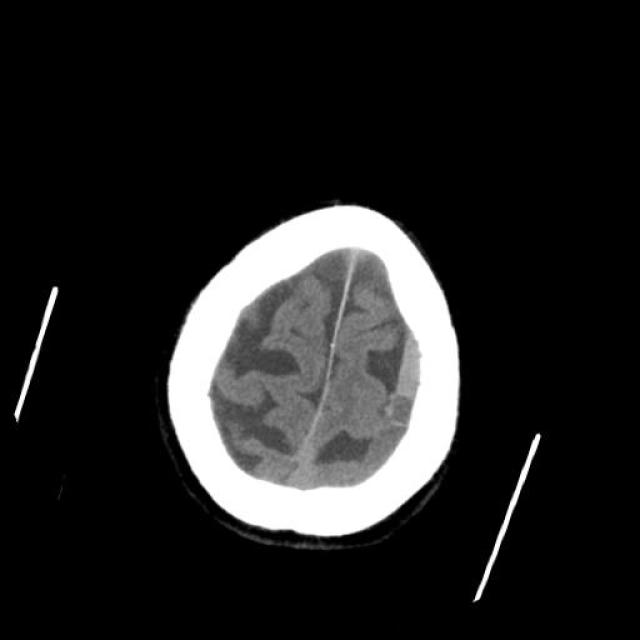Subdural: (338, 328, 448, 490)
